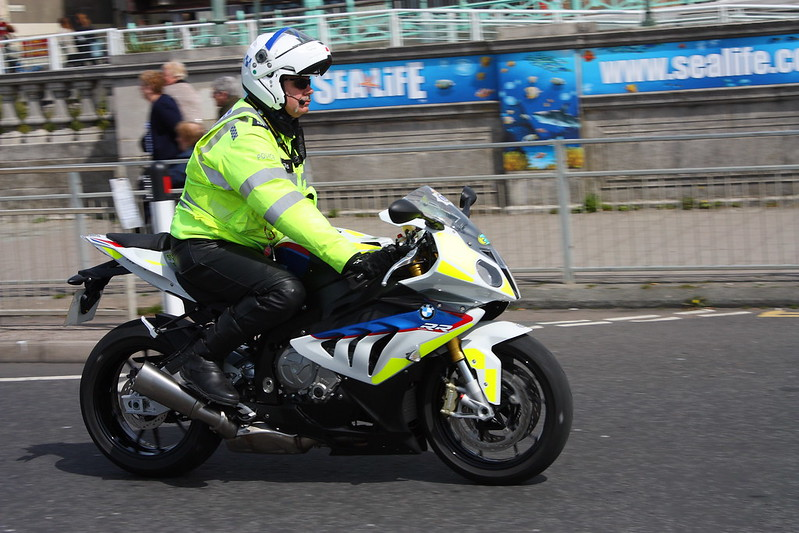helmet: (244, 31, 319, 108)
